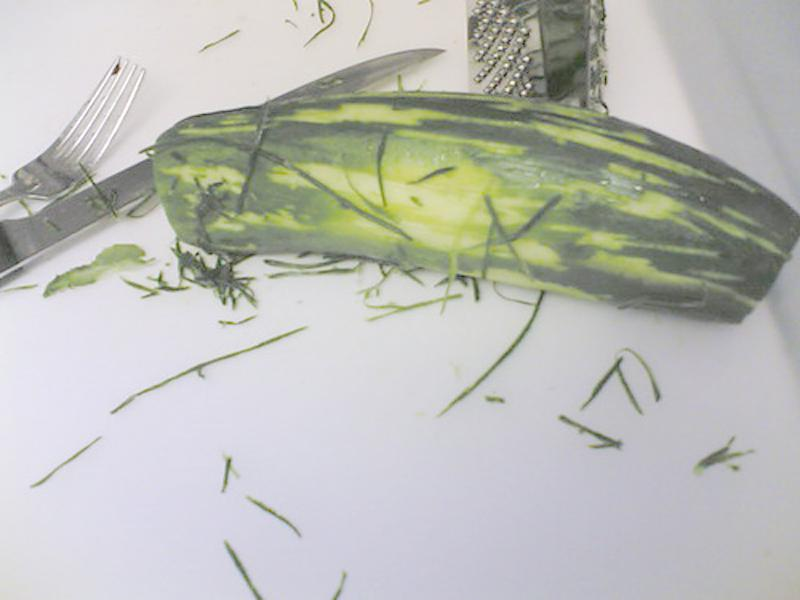Cucumber: (151, 91, 796, 325)
